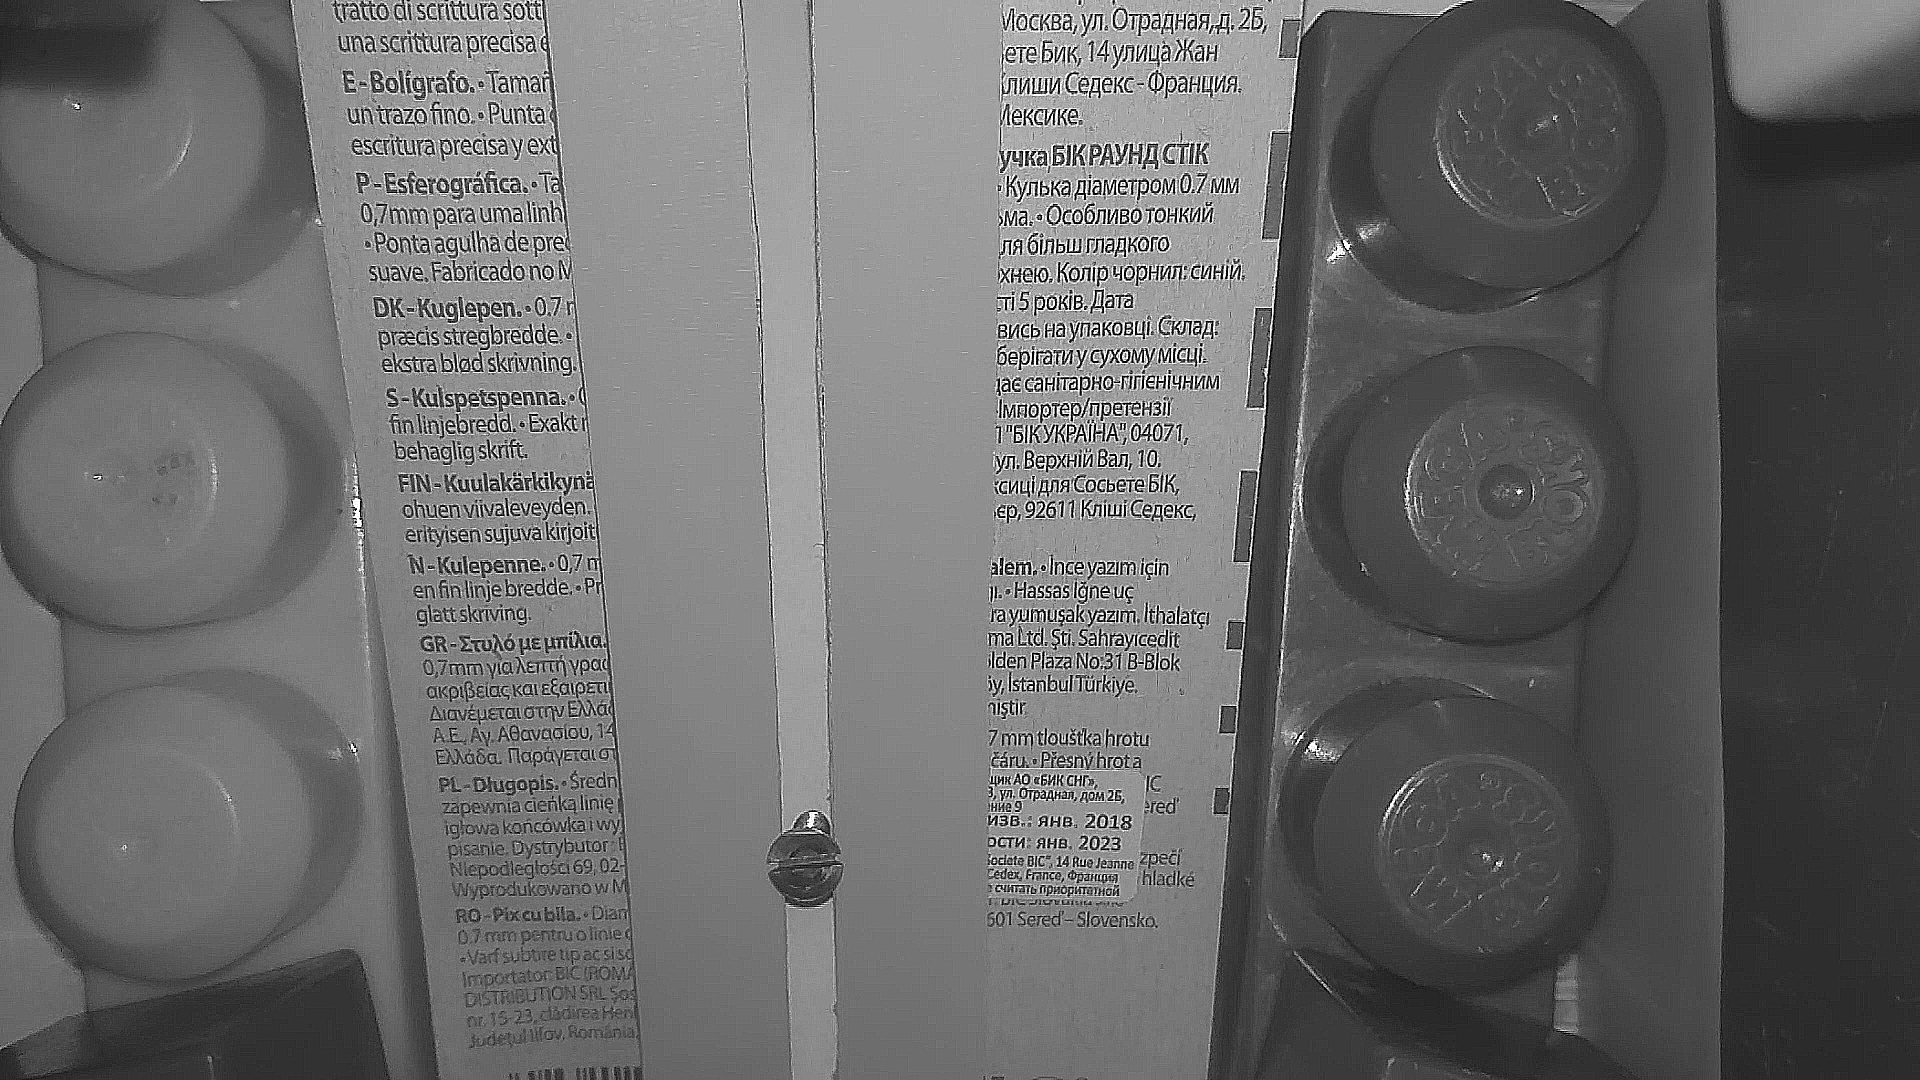i: (767, 827, 845, 905)
